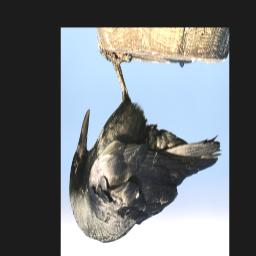Crow: (69, 33, 223, 245)
